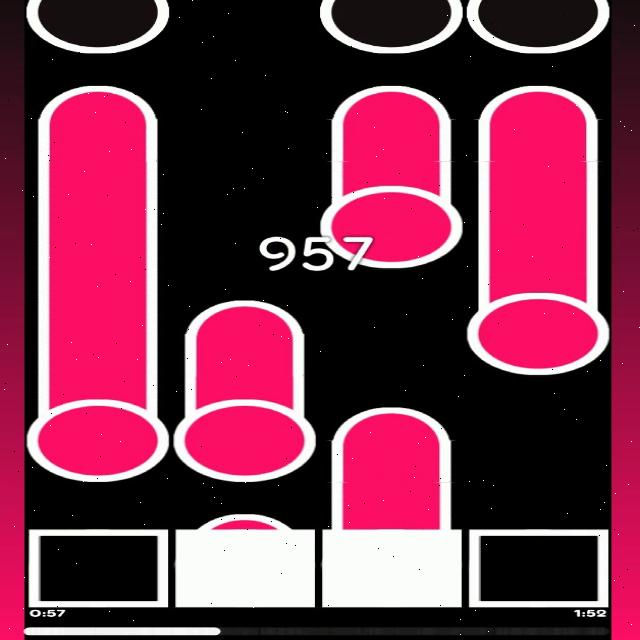end_hold: (29, 74, 168, 128), (328, 395, 458, 452), (473, 74, 606, 127), (324, 74, 458, 126), (178, 291, 313, 342), (194, 500, 306, 532)
note: (25, 0, 169, 55), (318, 0, 463, 54), (466, 0, 613, 53)
start_hold: (26, 384, 166, 485), (468, 277, 608, 377), (175, 387, 316, 482)
